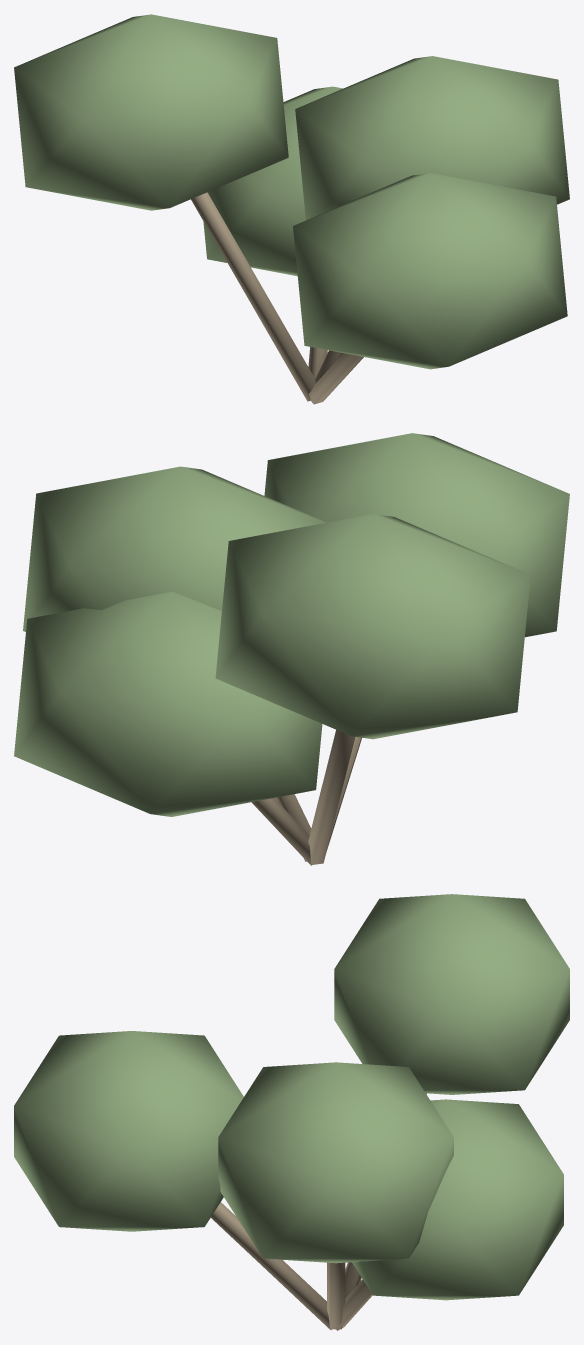
The model's file is tyne-gorse_lod1.glb.
3 renders of one model, top to bottom at view 1: azimuth 30°, elevation 25°; view 2: azimuth 150°, elevation 25°; view 3: azimuth 270°, elevation 25°, orthographic. The views are drawn at different scales.
Parts seen in each view (by area): view 1: RF_ShrubLeaves.001, RF_ShrubLeaves.002, RF_ShrubLeaves, RF_ShrubLeaves.003, RF_ShrubBranch.002, RF_ShrubBranch.003; view 2: RF_ShrubLeaves.001, RF_ShrubLeaves.003, RF_ShrubLeaves, RF_ShrubLeaves.002, RF_ShrubBranch.002, RF_ShrubBranch, RF_ShrubBranch.001; view 3: RF_ShrubLeaves, RF_ShrubLeaves.001, RF_ShrubLeaves.002, RF_ShrubLeaves.003, RF_ShrubBranch.003, RF_ShrubBranch.001, RF_ShrubBranch.
Boxes of the visible parts, x1,y1,x2,y2 form: RF_ShrubLeaves.001: [14, 14, 288, 210]; RF_ShrubLeaves.002: [293, 173, 567, 369]; RF_ShrubLeaves: [295, 56, 569, 220]; RF_ShrubLeaves.003: [203, 86, 342, 276]; RF_ShrubBranch.002: [191, 192, 315, 401]; RF_ShrubBranch.003: [309, 353, 363, 404]; RF_ShrubLeaves.001: [215, 514, 530, 739]; RF_ShrubLeaves.003: [14, 592, 322, 816]; RF_ShrubLeaves: [23, 466, 326, 631]; RF_ShrubLeaves.002: [264, 433, 569, 637]; RF_ShrubBranch.002: [308, 730, 355, 864]; RF_ShrubBranch: [251, 798, 311, 865]; RF_ShrubBranch.001: [275, 794, 311, 861]; RF_ShrubLeaves: [218, 1062, 453, 1263]; RF_ShrubLeaves.001: [334, 894, 569, 1094]; RF_ShrubLeaves.002: [14, 1031, 243, 1231]; RF_ShrubLeaves.003: [352, 1099, 563, 1300]; RF_ShrubBranch.003: [211, 1202, 331, 1329]; RF_ShrubBranch.001: [327, 1262, 345, 1329]; RF_ShrubBranch: [335, 1279, 372, 1330].
Bounding box in the file's own units: 2.03 × 1.51 × 2.01.
